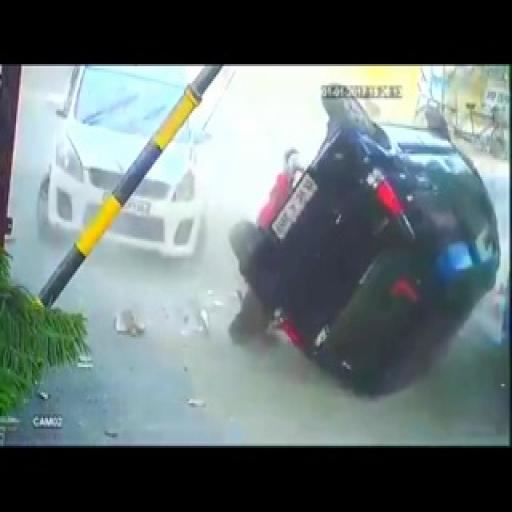Car: (231, 93, 497, 394), (38, 65, 208, 259)
Major Accident: (35, 64, 502, 396)
